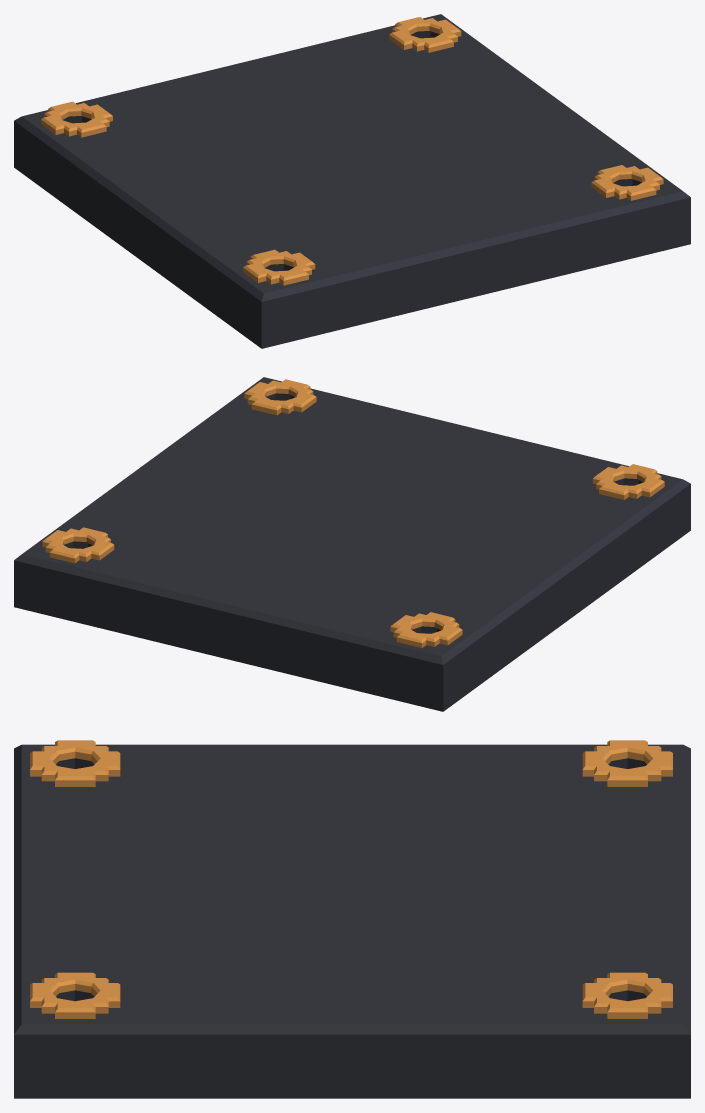
Rendered from PMV-Plataforma.glb.
3 views of the same model, one above another, from view 1: azimuth 30°, elevation 25°; view 2: azimuth 150°, elevation 25°; view 3: azimuth 270°, elevation 25° (orthographic). The views are drawn at different scales.
Parts seen in each view (by area): view 1: Plataforma, Chakana Plataforma; view 2: Plataforma, Chakana Plataforma; view 3: Plataforma, Chakana Plataforma.
Boxes of the visible parts, box(x1,y1,x2,y2) form: Plataforma: box(14, 14, 690, 348); Chakana Plataforma: box(41, 17, 663, 285); Plataforma: box(14, 377, 690, 711); Chakana Plataforma: box(42, 379, 664, 647); Plataforma: box(14, 744, 690, 1098); Chakana Plataforma: box(30, 740, 672, 1018).
Size of the model in its own units: 0.8624 by 0.1226 by 0.8624.
Materials: 2 (1 with a texture image).
